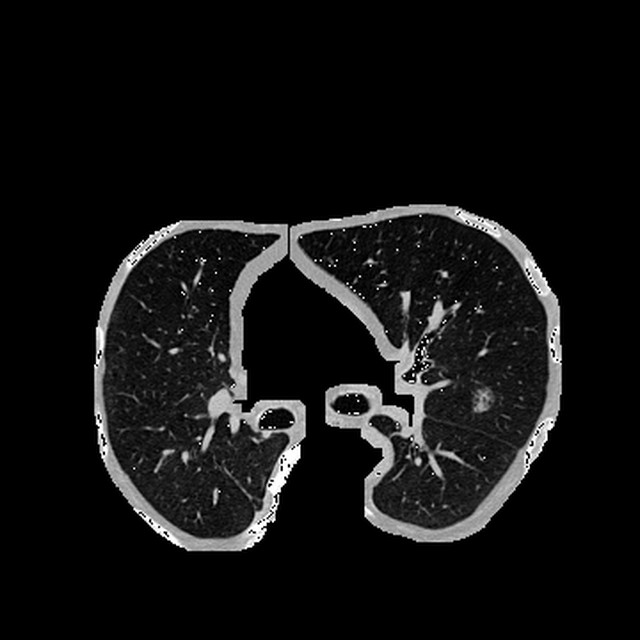PN: (471, 389, 492, 411)
